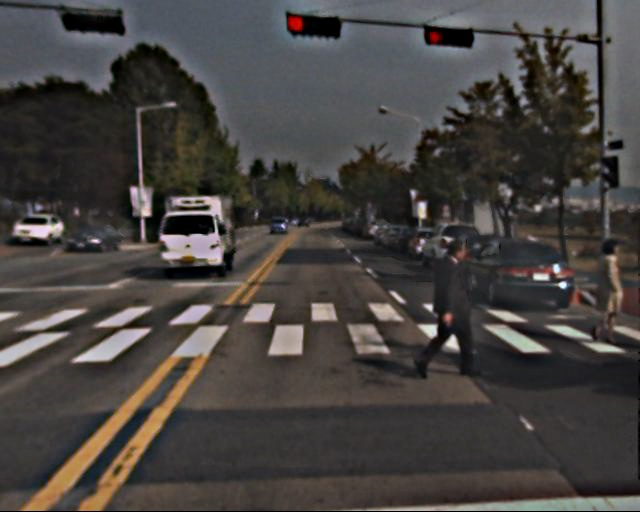person: (420, 235, 480, 381), (583, 234, 630, 348)
